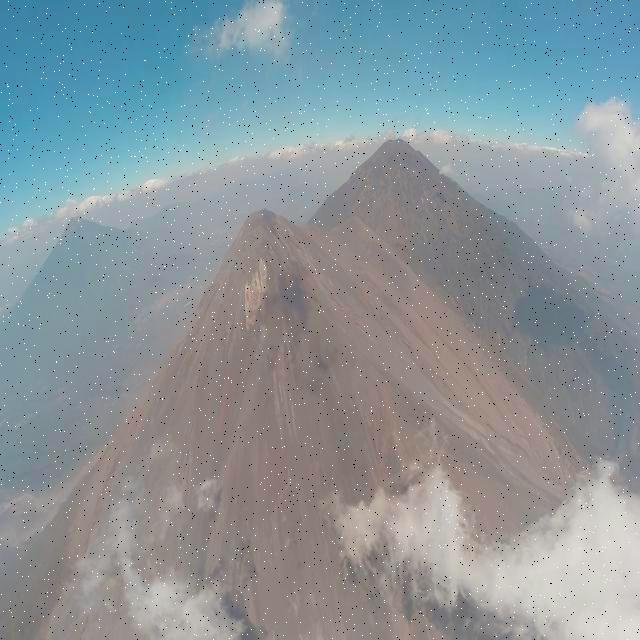Summit: (194, 206, 328, 329)
